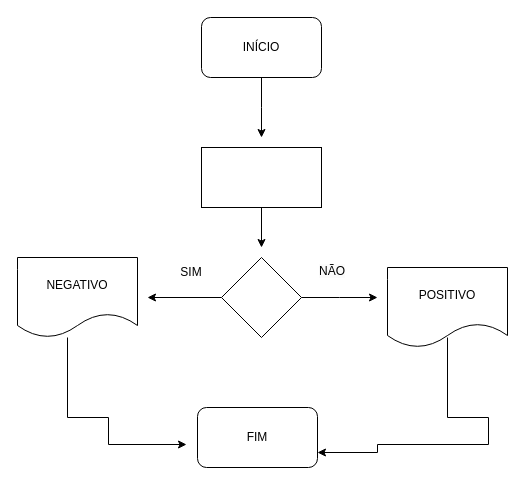
Image size: 525x485. Some labels were removed from this diagram. The centre of each missing label's shape, as x and y in pixels:
ENTRADA DE DADOS (N1): point (261, 177)
N1 != 0 e <=-1: point (261, 297)
